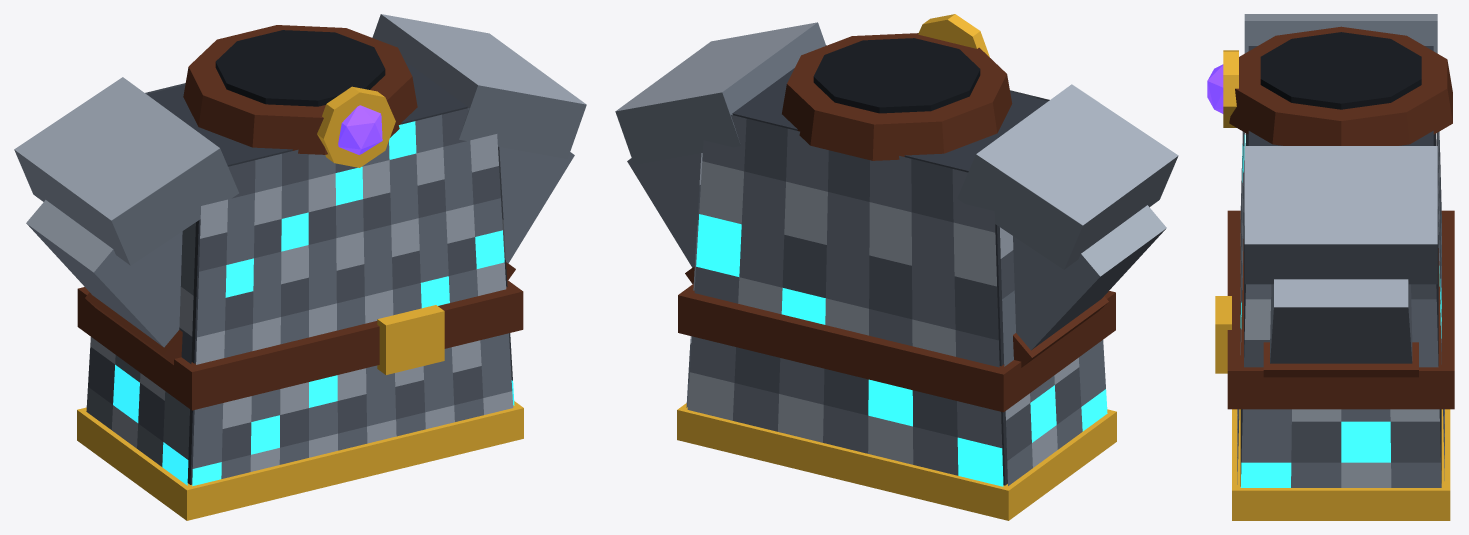
The model's file is Res_Armor_Chainmail_Enchanted.fbx.
3 renders of one model, left to right at view 1: azimuth 30°, elevation 25°; view 2: azimuth 150°, elevation 25°; view 3: azimuth 270°, elevation 25°, orthographic.
Parts seen in each view (by area): view 1: Res_Armor_Chainmail_Enchanted; view 2: Res_Armor_Chainmail_Enchanted; view 3: Res_Armor_Chainmail_Enchanted.
Part boxes in pixels (<box>): Res_Armor_Chainmail_Enchanted: <box>14,14,586,520</box>; Res_Armor_Chainmail_Enchanted: <box>615,14,1178,520</box>; Res_Armor_Chainmail_Enchanted: <box>1207,14,1454,520</box>.
Bounding box in the file's own units: 0.6566 × 0.5093 × 0.2943.
